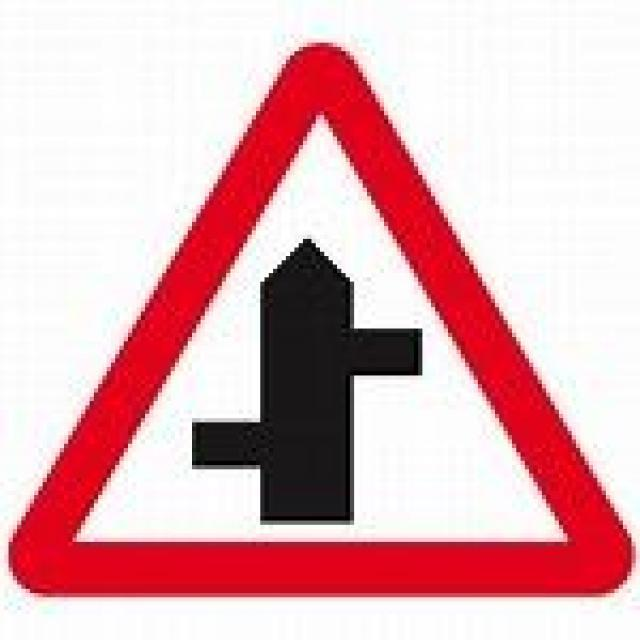staggered intersection: (13, 44, 622, 593)
